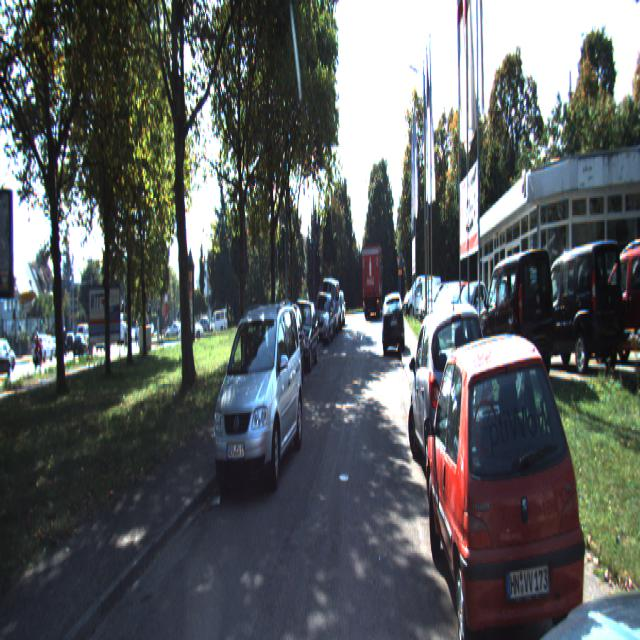Car: (424, 323, 600, 638), (510, 294, 640, 638), (409, 298, 499, 514), (209, 305, 307, 502), (532, 230, 629, 382), (476, 250, 560, 385), (586, 243, 639, 375), (449, 279, 494, 346), (286, 297, 320, 374), (362, 246, 384, 324), (382, 292, 406, 357), (312, 294, 335, 348)
